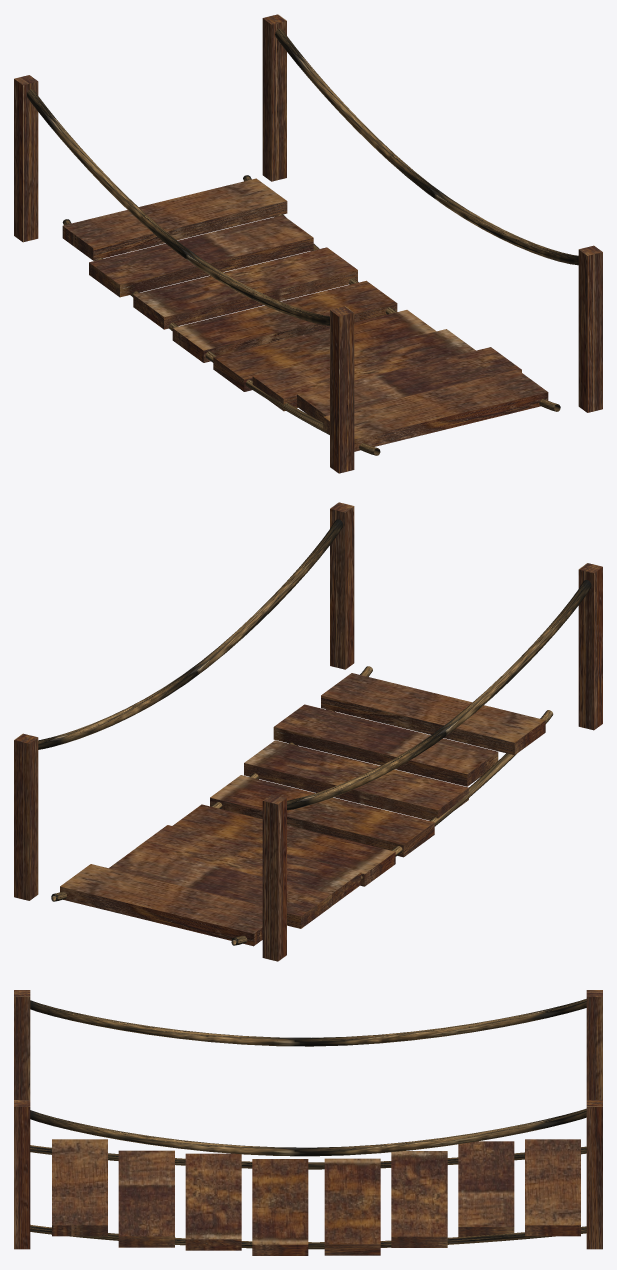
Rendered from Jembatan.fbx.
3 renders of one model, top to bottom at view 1: azimuth 30°, elevation 25°; view 2: azimuth 150°, elevation 25°; view 3: azimuth 270°, elevation 25°, orthographic. The views are drawn at different scales.
Parts seen in each view (by area): view 1: Jematan; view 2: Jematan; view 3: Jematan.
Boxes of the visible parts, bbox=[...] form: Jematan: bbox=[14, 14, 602, 473]; Jematan: bbox=[14, 502, 602, 961]; Jematan: bbox=[14, 990, 602, 1255].
Size of the model in its own units: 363 by 237 by 773.
Materials: 2 (2 with a texture image).
